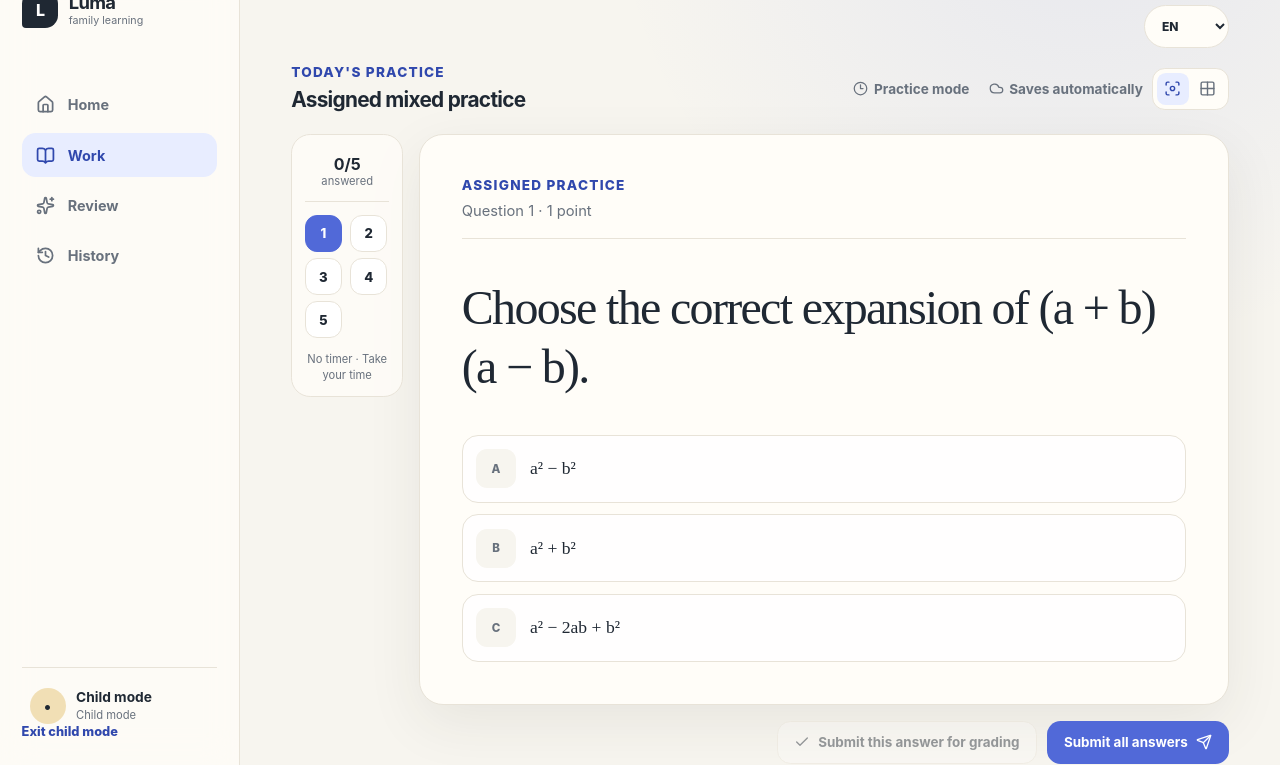
Scenario: WorksheetWorkbench › autosaves an answer and lets the child move to the next question
Expected: the heading "Choose the correct expansion of (a + b)(a − b)." is shown, [462,279,1186,396]
What coordinates should you click on to do the following:
click the radio button labelled "a² − b²"
I would click on:
 (496, 469)
Its box is [462,434,1186,503].
(page scrolled)
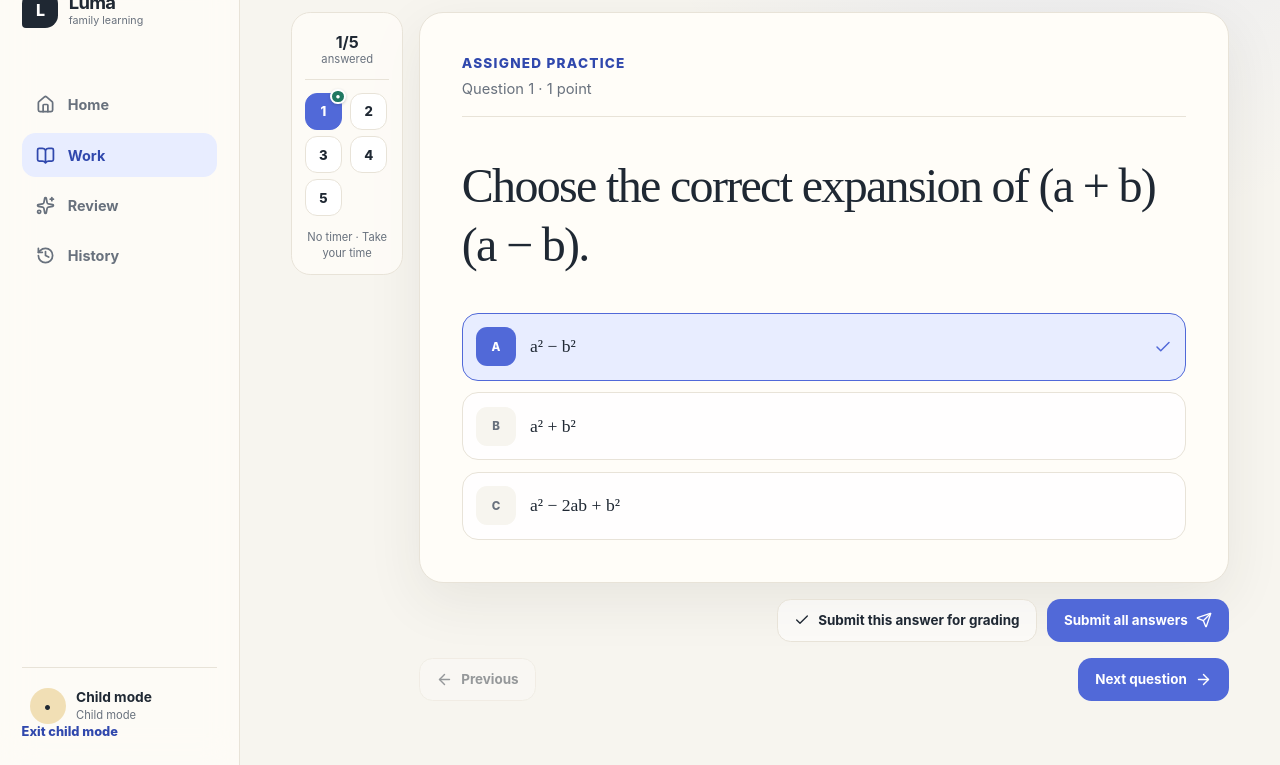
What coordinates should you click on to do the following:
click the button "Next question"
I would click on:
 (1154, 679)
Its box is [1078,658,1229,701].
(page scrolled)
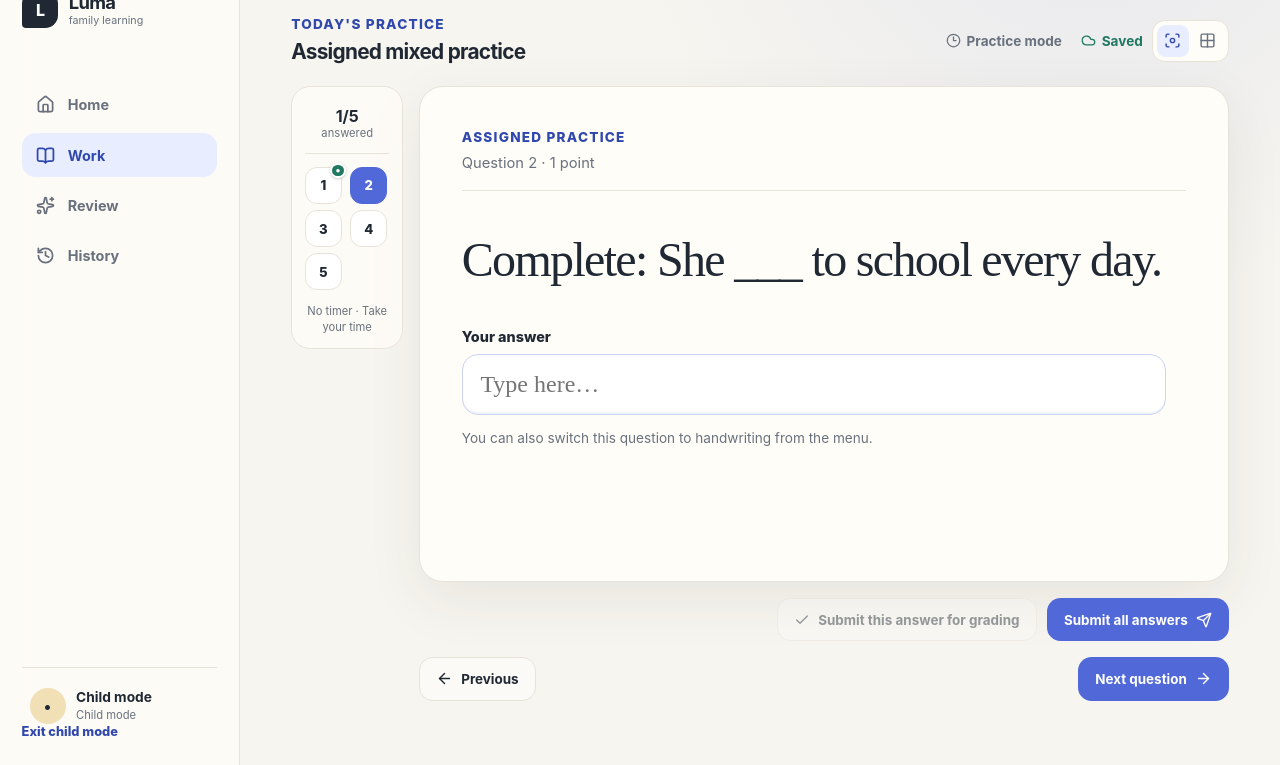
Now the heading "Complete: She ___ to school every day." is shown, box [462,231,1186,290]
